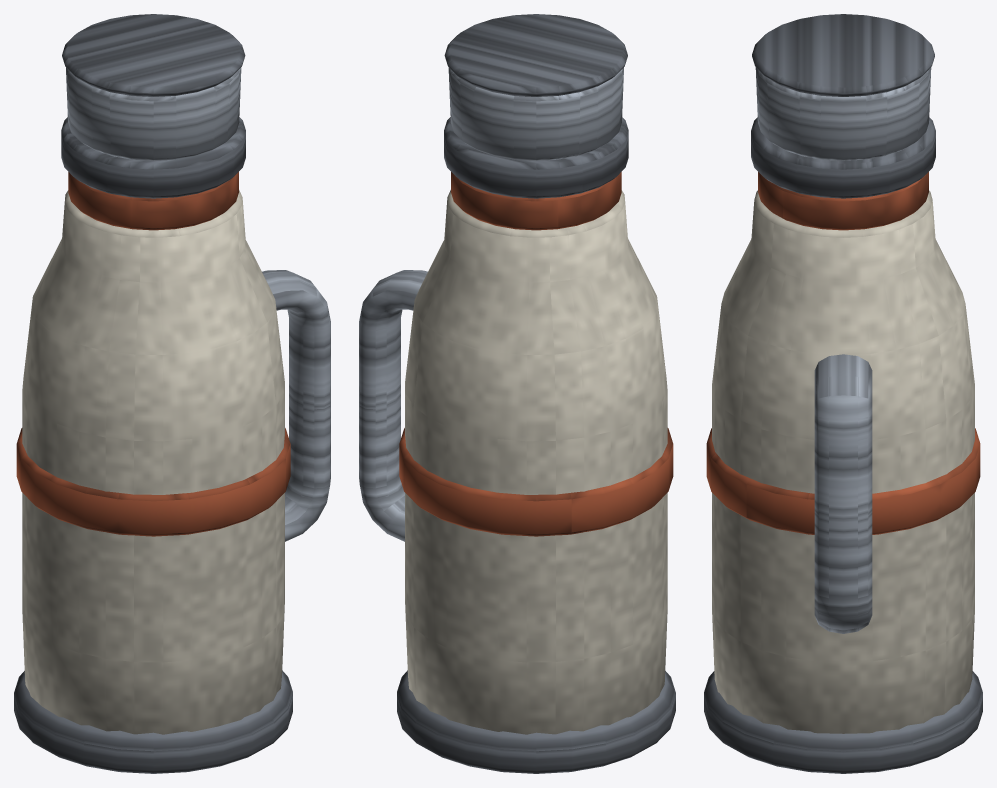
File: thermos.fbx
3 renders of one model, left to right at view 1: azimuth 30°, elevation 25°; view 2: azimuth 150°, elevation 25°; view 3: azimuth 270°, elevation 25°, orthographic.
Parts seen in each view (by area): view 1: thermos; view 2: thermos; view 3: thermos.
Boxes of the visible parts, x1,y1,x2,y2 form: thermos: [14, 14, 330, 773]; thermos: [359, 14, 675, 773]; thermos: [704, 14, 982, 773].
Size of the model in its own units: 19.4 by 42.2 by 16.
